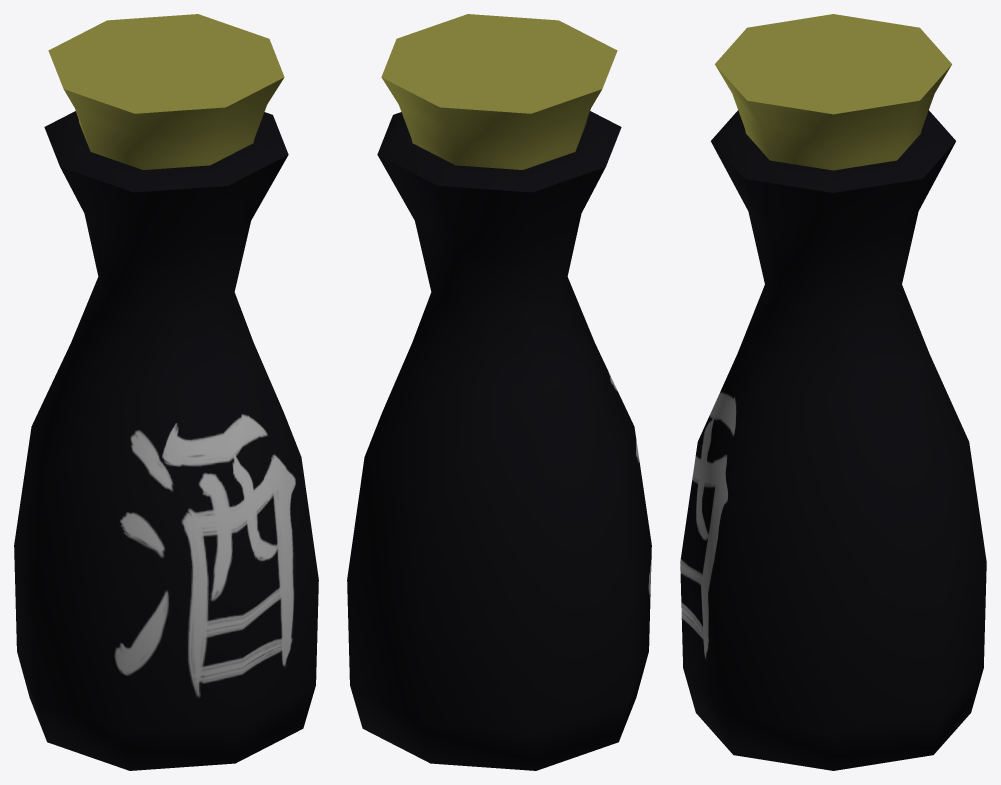
Rendered from GarrafaSake.fbx.
The picture shows the model from 3 angles, left to right: view 1: azimuth 30°, elevation 25°; view 2: azimuth 150°, elevation 25°; view 3: azimuth 270°, elevation 25°; orthographic projection.
Visible parts, largest first — view 1: GarrafaSake; view 2: GarrafaSake; view 3: GarrafaSake.
Boxes of the visible parts, <box> form: GarrafaSake: <box>14,14,318,770</box>; GarrafaSake: <box>347,14,651,770</box>; GarrafaSake: <box>680,14,986,770</box>.
Bounding box in the file's own units: 19.16 × 44.94 × 19.16.
